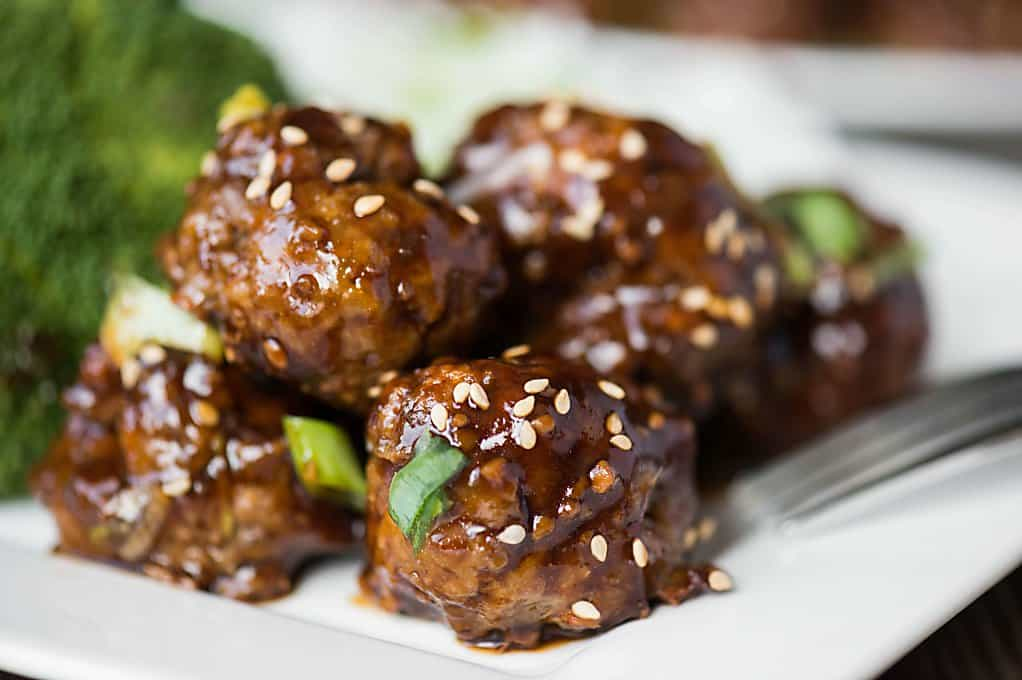meatballs: (364, 368, 674, 609), (205, 129, 492, 360)
